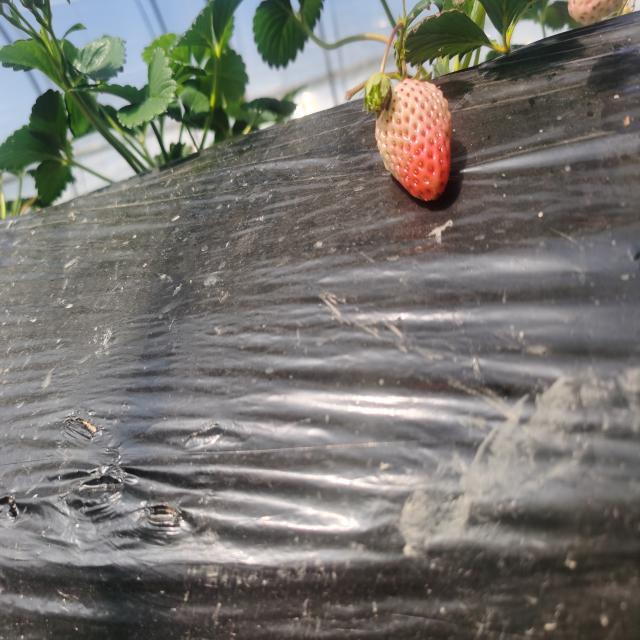stem: (401, 57, 407, 82)
strawberry: (375, 77, 451, 202)
